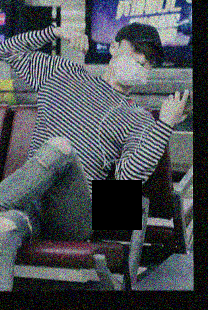mask_weared_incorrect: (115, 40, 157, 84)
